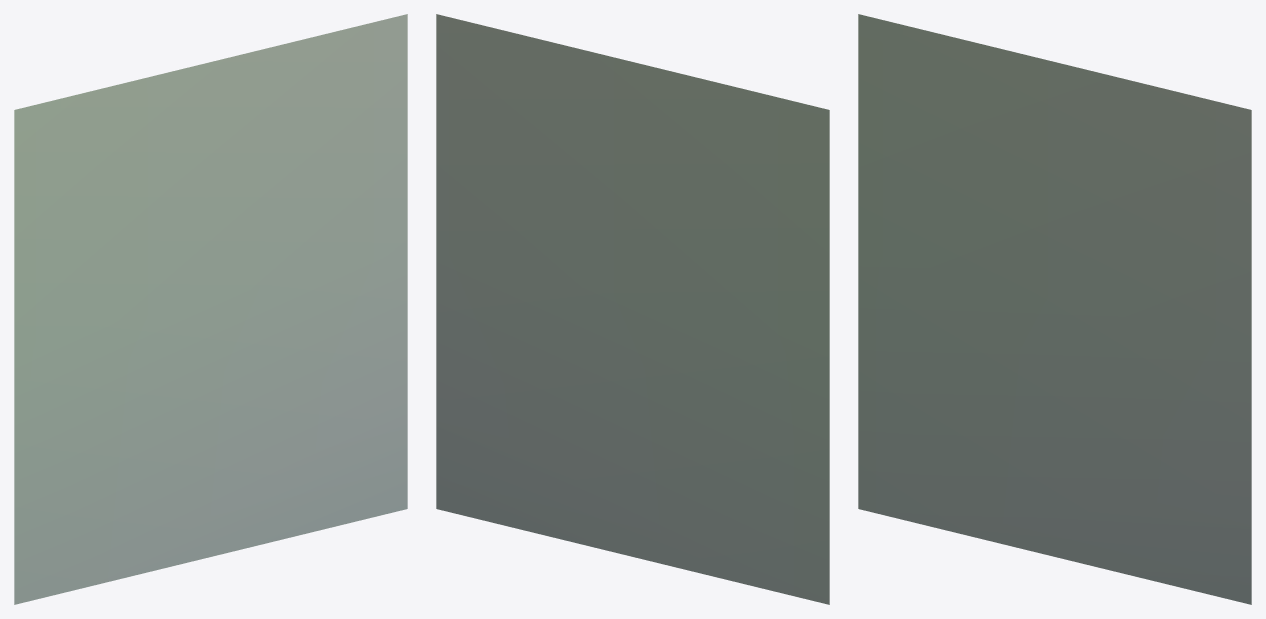
3 views of the same model, side by side, from view 1: azimuth 30°, elevation 25°; view 2: azimuth 150°, elevation 25°; view 3: azimuth 330°, elevation 25° (orthographic).
Parts seen in each view (by area): view 1: 5F879181468EC37882CF11B1391E9254; view 2: 5F879181468EC37882CF11B1391E9254; view 3: 5F879181468EC37882CF11B1391E9254.
Boxes of the visible parts, x1,y1,x2,y2 form: 5F879181468EC37882CF11B1391E9254: (14, 14, 407, 604); 5F879181468EC37882CF11B1391E9254: (436, 14, 829, 604); 5F879181468EC37882CF11B1391E9254: (858, 14, 1251, 604).
Bounding box in the file's own units: 0 × 29.65 × 35.63.
